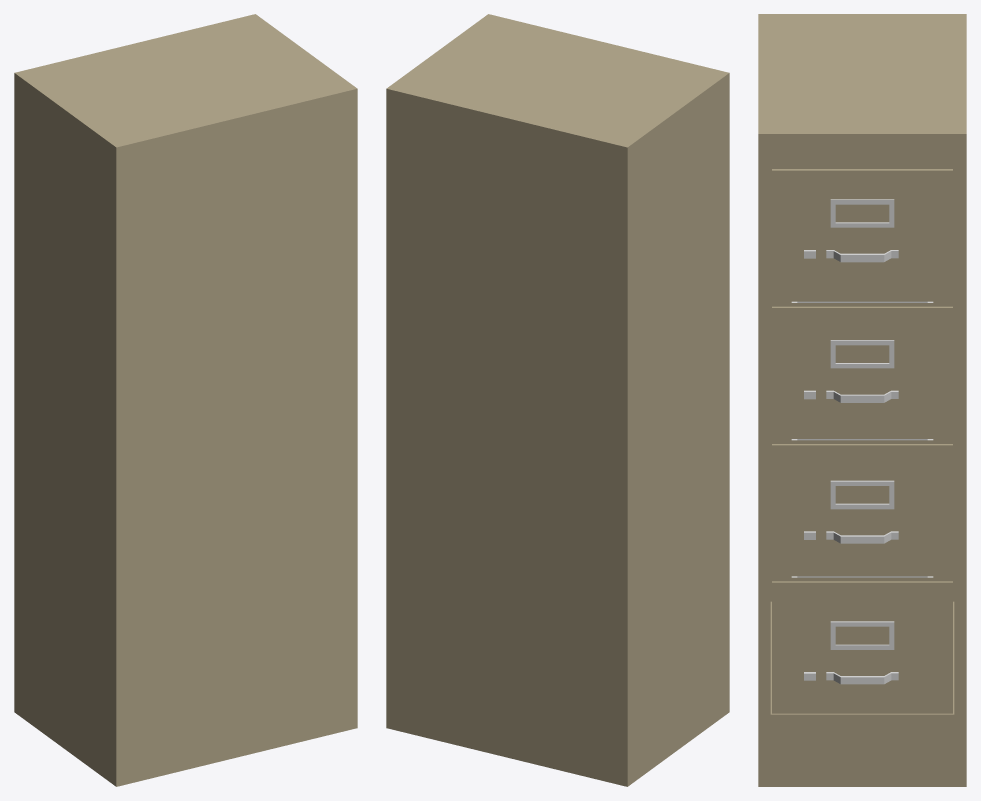
The model's file is filing_cabinet.fbx.
3 views of the same model, side by side, from view 1: azimuth 30°, elevation 25°; view 2: azimuth 150°, elevation 25°; view 3: azimuth 270°, elevation 25° (orthographic). The views are drawn at different scales.
Visible parts, largest first — view 1: filing_cabinet; view 2: filing_cabinet; view 3: filing_cabinet.
Boxes of the visible parts, left/top/right/bottom form: filing_cabinet: left=14, top=14, right=357, bottom=786; filing_cabinet: left=386, top=14, right=729, bottom=786; filing_cabinet: left=758, top=14, right=966, bottom=786.
Size of the model in its own units: 93.61 by 227 by 65.76.
